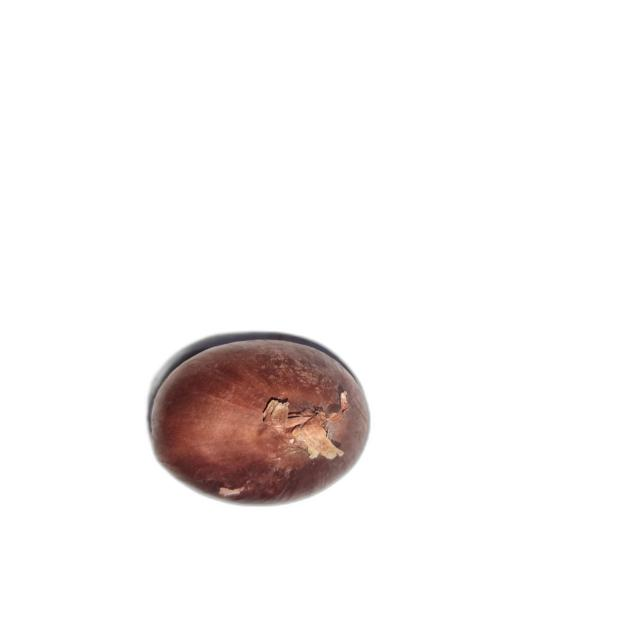onion: (148, 338, 372, 506)
